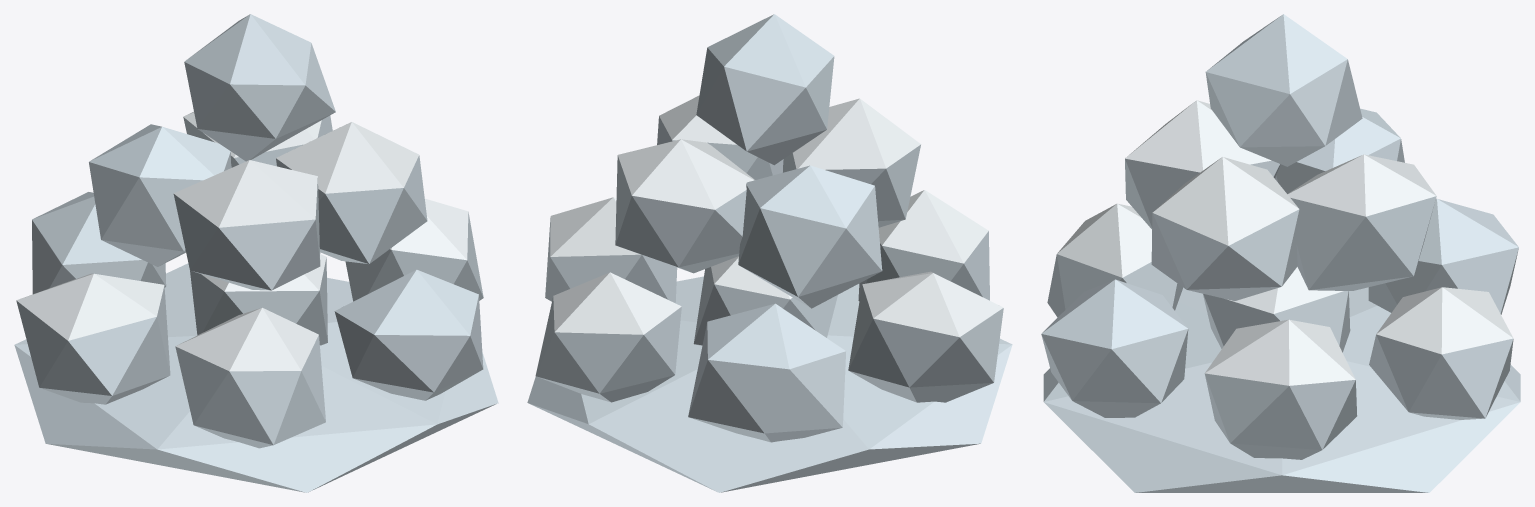
File: snowball_pile.glb
3 renders of one model, left to right at view 1: azimuth 30°, elevation 25°; view 2: azimuth 150°, elevation 25°; view 3: azimuth 270°, elevation 25°, orthographic. The views are drawn at different scales.
Parts seen in each view (by area): view 1: snowball_pile; view 2: snowball_pile; view 3: snowball_pile.
Part boxes in pixels (left/top/right/bottom): snowball_pile: left=14, top=14, right=498, bottom=492; snowball_pile: left=527, top=14, right=1012, bottom=492; snowball_pile: left=1041, top=14, right=1520, bottom=492.
Size of the model in its own units: 0.5547 by 0.4887 by 0.513.
